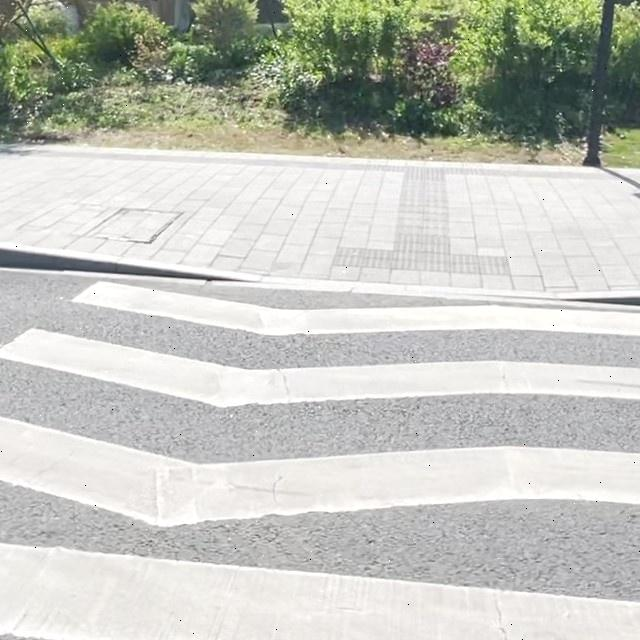curb: (0, 245, 640, 311)
